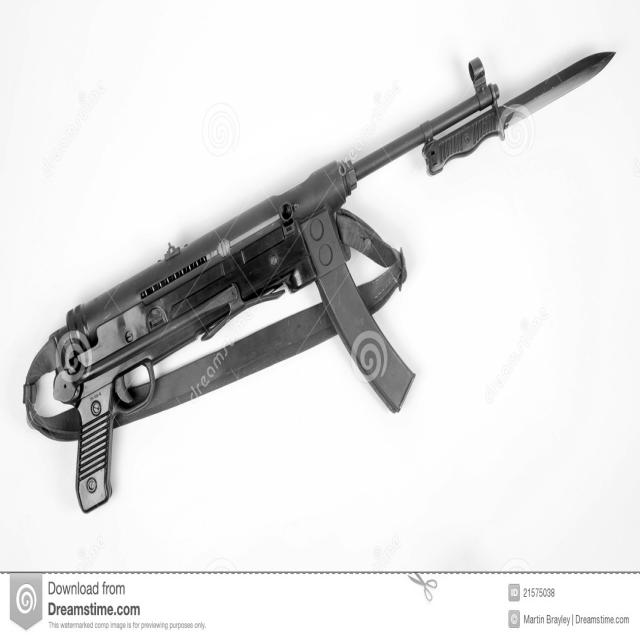Sub-machine-gun: (23, 8, 588, 550)
